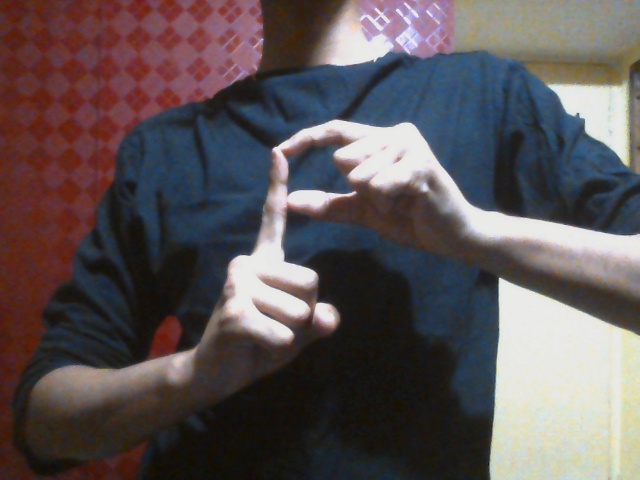P: (197, 117, 428, 398)
